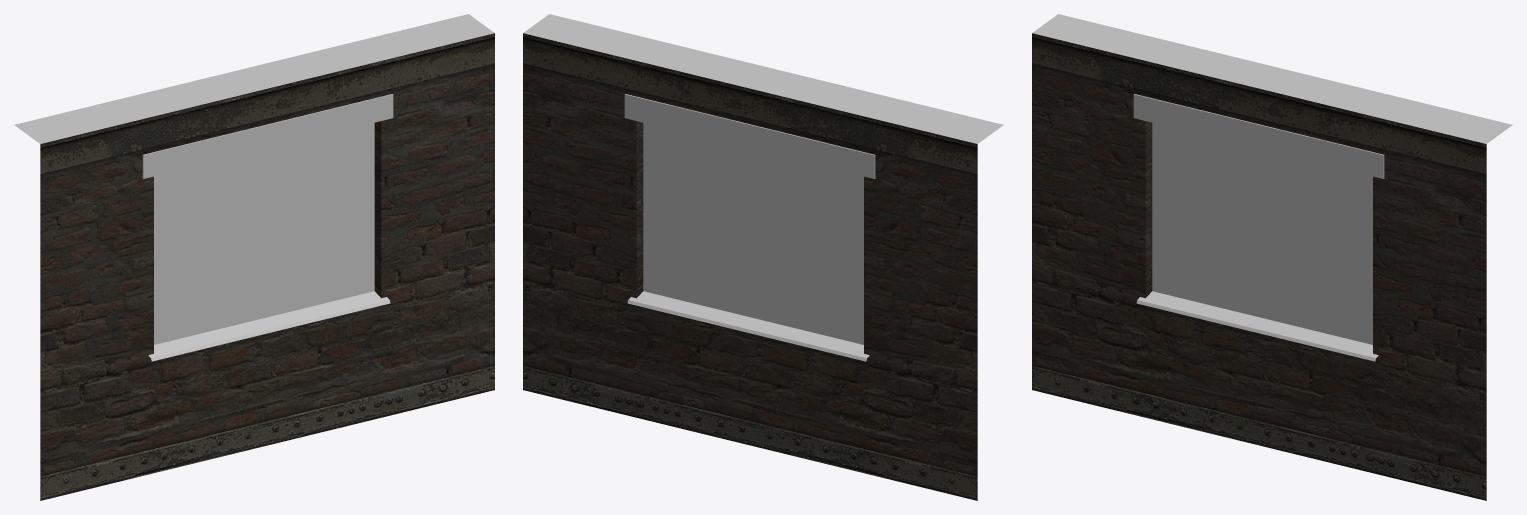
Rendered from window_hr_1.fbx.
3 renders of one model, left to right at view 1: azimuth 30°, elevation 25°; view 2: azimuth 150°, elevation 25°; view 3: azimuth 330°, elevation 25°, orthographic.
Visible parts, largest first — view 1: window_hr_1; view 2: window_hr_1; view 3: window_hr_1.
Boxes of the visible parts, x1,y1,x2,y2 form: window_hr_1: (14, 14, 494, 500); window_hr_1: (523, 14, 1003, 500); window_hr_1: (1032, 14, 1512, 500).
Bounding box in the file's own units: 4 × 0.51 × 3.
